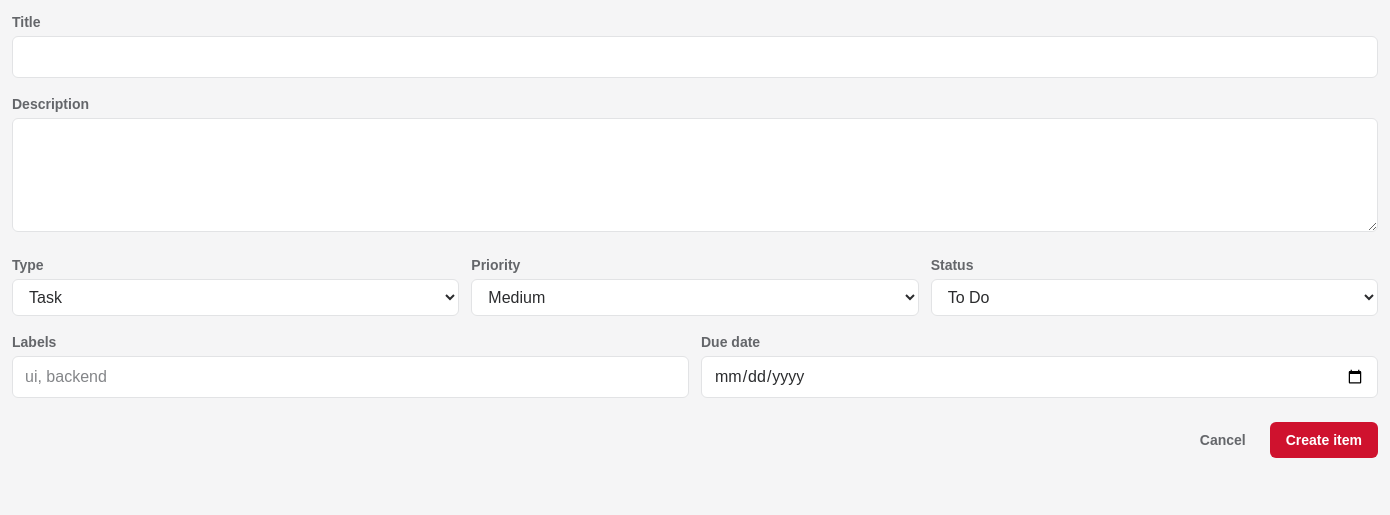
Test: ItemForm › requires a title
Click the button "Create item". click: x=1324, y=440
box: [1270, 422, 1378, 458]
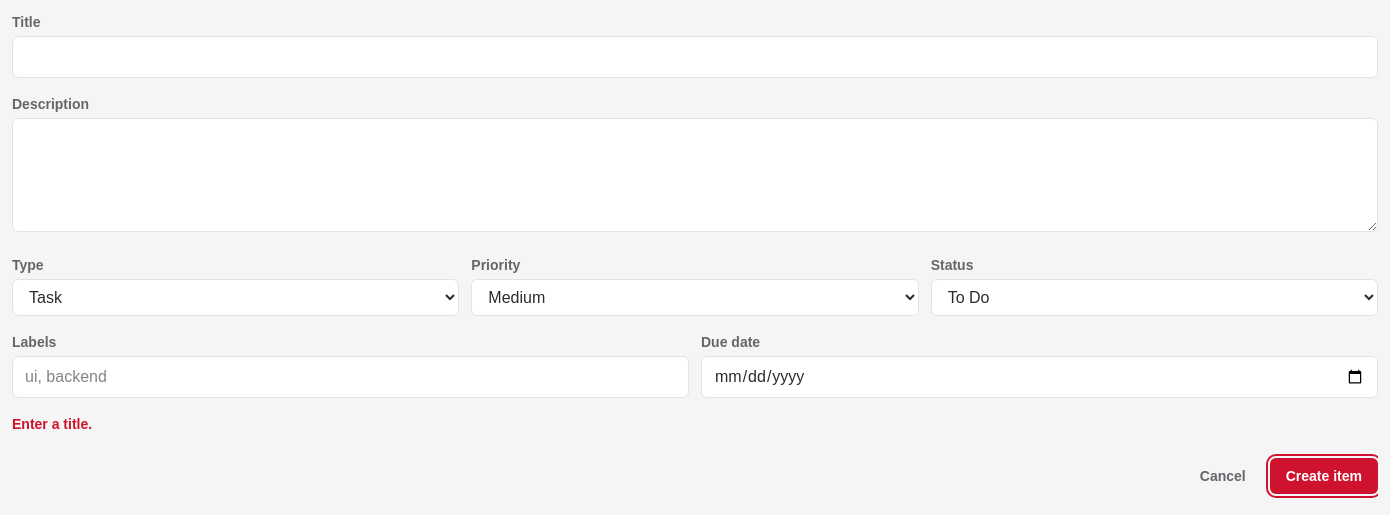
Expected: the message shows "Enter a title", [12, 416, 92, 432]
